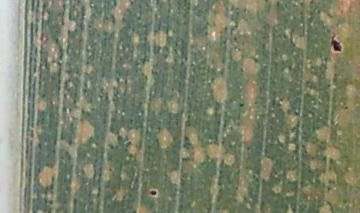tarspot: (328, 32, 345, 55), (147, 187, 160, 198), (238, 102, 246, 109), (343, 104, 350, 112)
